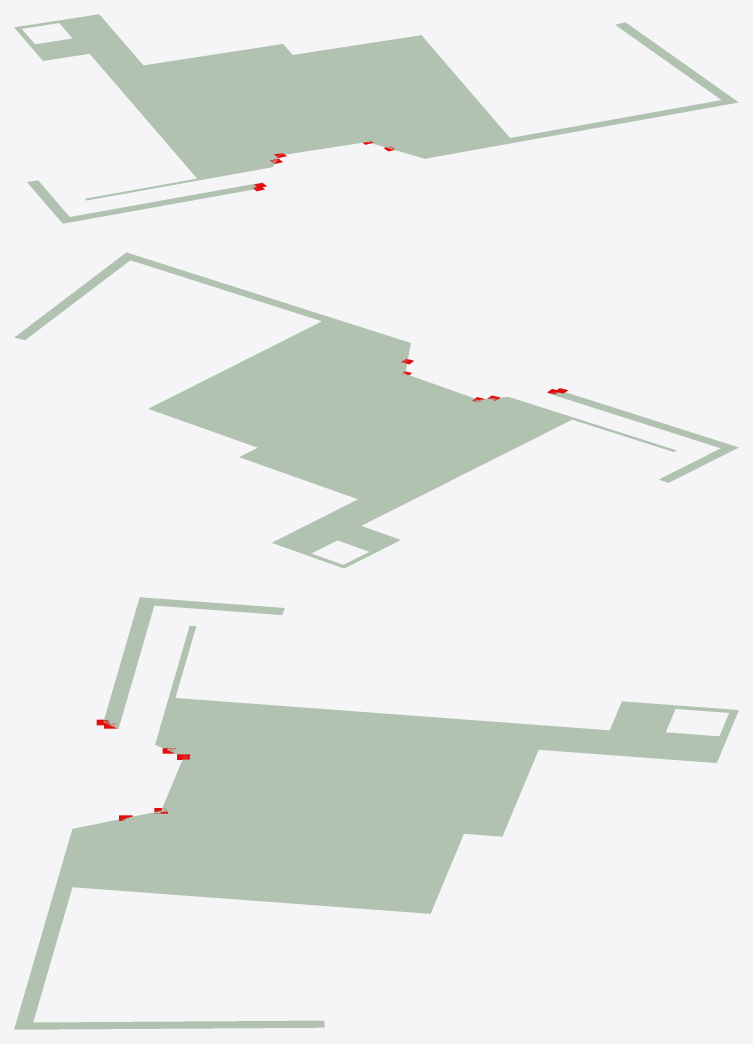
Rendered from floor-487750.glb.
3 views of the same model, one above another, from view 1: azimuth 30°, elevation 25°; view 2: azimuth 150°, elevation 25°; view 3: azimuth 270°, elevation 25° (orthographic). The views are drawn at different scales.
Visible parts, largest first — view 1: SectionBody_11,655a4c80-5074-47b9-a906-6dae9025e47b, SectionBody_5,f5be9884-1ec4-4bdf-83fe-4a4f57898bca, SectionBody_18,188ced9f-8953-4fa2-9da6-4d38ebbba89a, SectionBody_14,817ea7ed-bc4a-429e-8aee-e4c509cef56e, SectionBody_16,4a787c18-0a65-4c3d-a247-b4a747b72b2c, SectionBody_8,28b44917-900a-45e6-ad66-e7244a49c854, SectionBody_10,67384a9e-0818-4f26-b960-20a7834700e3; view 2: SectionBody_11,655a4c80-5074-47b9-a906-6dae9025e47b, SectionBody_5,f5be9884-1ec4-4bdf-83fe-4a4f57898bca, SectionBody_18,188ced9f-8953-4fa2-9da6-4d38ebbba89a, SectionBody_14,817ea7ed-bc4a-429e-8aee-e4c509cef56e, SectionBody_16,4a787c18-0a65-4c3d-a247-b4a747b72b2c; view 3: SectionBody_11,655a4c80-5074-47b9-a906-6dae9025e47b, SectionBody_5,f5be9884-1ec4-4bdf-83fe-4a4f57898bca, SectionBody_14,817ea7ed-bc4a-429e-8aee-e4c509cef56e, SectionBody_18,188ced9f-8953-4fa2-9da6-4d38ebbba89a, SectionBody_16,4a787c18-0a65-4c3d-a247-b4a747b72b2c, SectionBody_8,28b44917-900a-45e6-ad66-e7244a49c854.
Boxes of the visible parts, box(x1,y1,x2,y2) form: SectionBody_11,655a4c80-5074-47b9-a906-6dae9025e47b: box(14, 14, 509, 175); SectionBody_5,f5be9884-1ec4-4bdf-83fe-4a4f57898bca: box(413, 98, 738, 158); SectionBody_18,188ced9f-8953-4fa2-9da6-4d38ebbba89a: box(59, 182, 262, 223); SectionBody_14,817ea7ed-bc4a-429e-8aee-e4c509cef56e: box(615, 22, 731, 99); SectionBody_16,4a787c18-0a65-4c3d-a247-b4a747b72b2c: box(27, 180, 69, 218); SectionBody_8,28b44917-900a-45e6-ad66-e7244a49c854: box(195, 163, 262, 180); SectionBody_10,67384a9e-0818-4f26-b960-20a7834700e3: box(267, 138, 380, 157); SectionBody_11,655a4c80-5074-47b9-a906-6dae9025e47b: box(148, 321, 566, 568); SectionBody_5,f5be9884-1ec4-4bdf-83fe-4a4f57898bca: box(121, 252, 410, 349); SectionBody_18,188ced9f-8953-4fa2-9da6-4d38ebbba89a: box(547, 392, 738, 451); SectionBody_14,817ea7ed-bc4a-429e-8aee-e4c509cef56e: box(14, 257, 129, 339); SectionBody_16,4a787c18-0a65-4c3d-a247-b4a747b72b2c: box(659, 448, 730, 482); SectionBody_11,655a4c80-5074-47b9-a906-6dae9025e47b: box(72, 698, 738, 913); SectionBody_5,f5be9884-1ec4-4bdf-83fe-4a4f57898bca: box(14, 825, 90, 1029); SectionBody_14,817ea7ed-bc4a-429e-8aee-e4c509cef56e: box(31, 1020, 324, 1029); SectionBody_18,188ced9f-8953-4fa2-9da6-4d38ebbba89a: box(103, 597, 156, 728); SectionBody_16,4a787c18-0a65-4c3d-a247-b4a747b72b2c: box(154, 598, 284, 614); SectionBody_8,28b44917-900a-45e6-ad66-e7244a49c854: box(157, 697, 185, 741).
Size of the model in its own units: 30107 by 0 by 21325.
